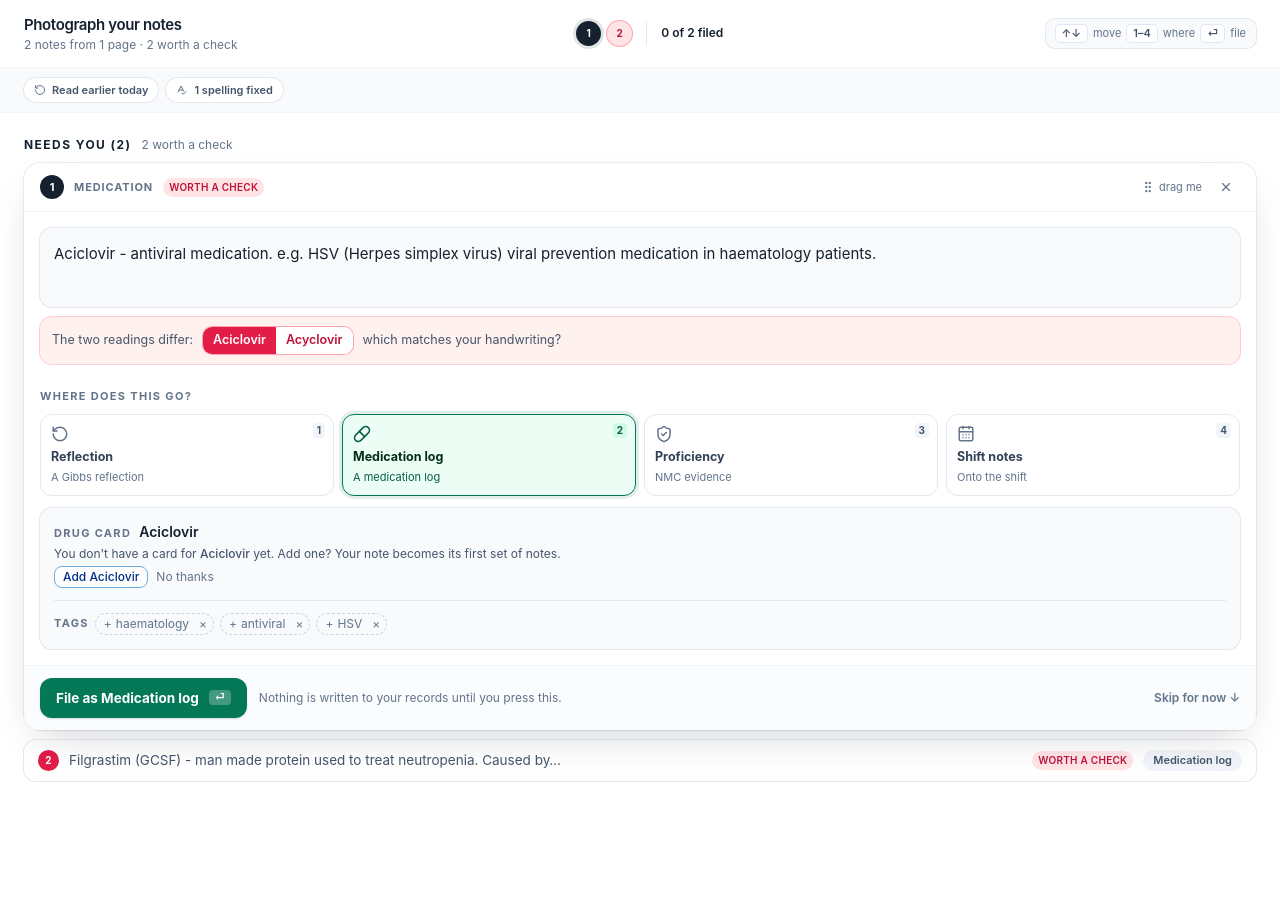
Test: ReviewPanel — the meta strip › opens one panel at a time
Click the button "Read earlier today" at x=91, y=90, box [24,78,158,102]
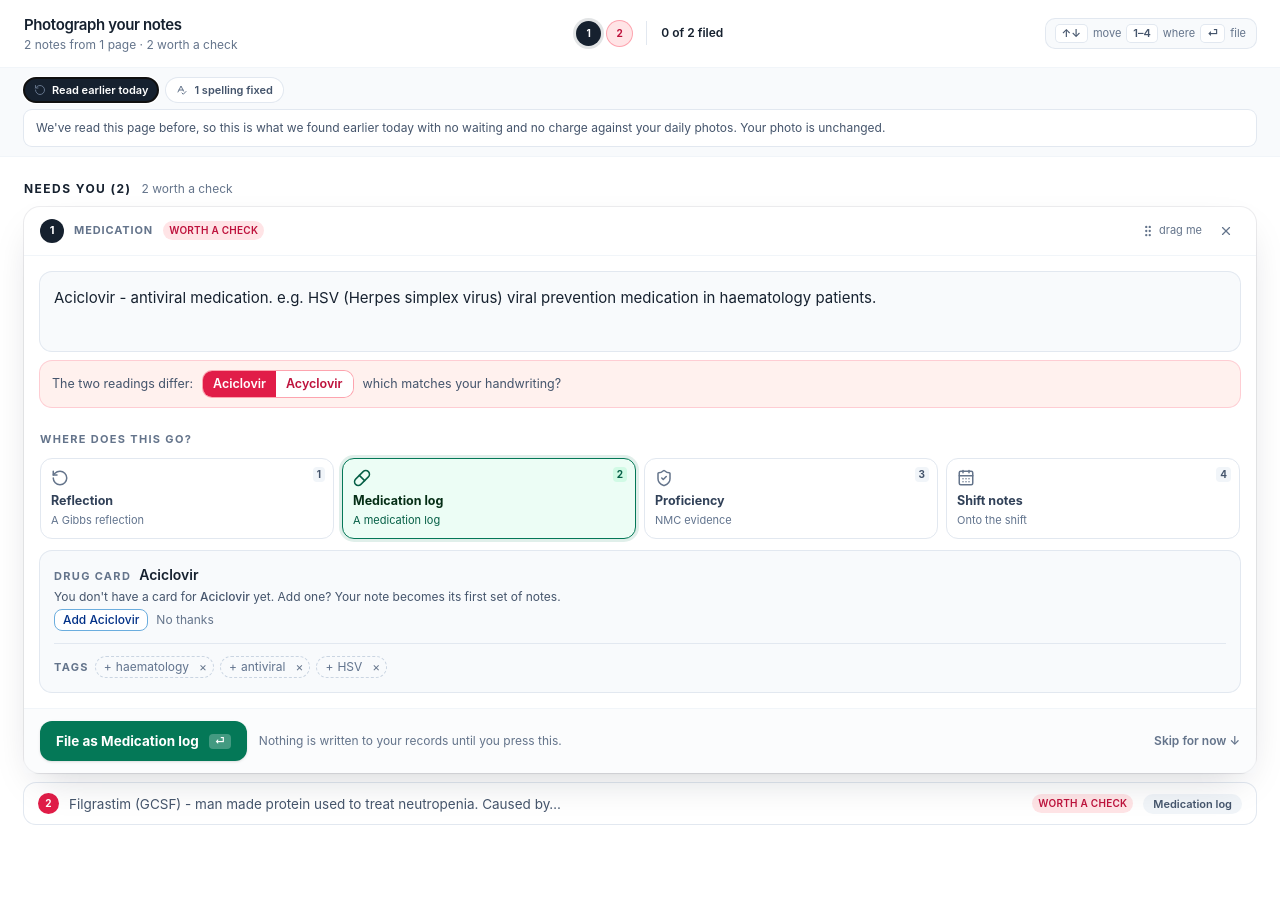
Click the button "1 spelling fixed" at x=225, y=90, box [166,78,283,102]
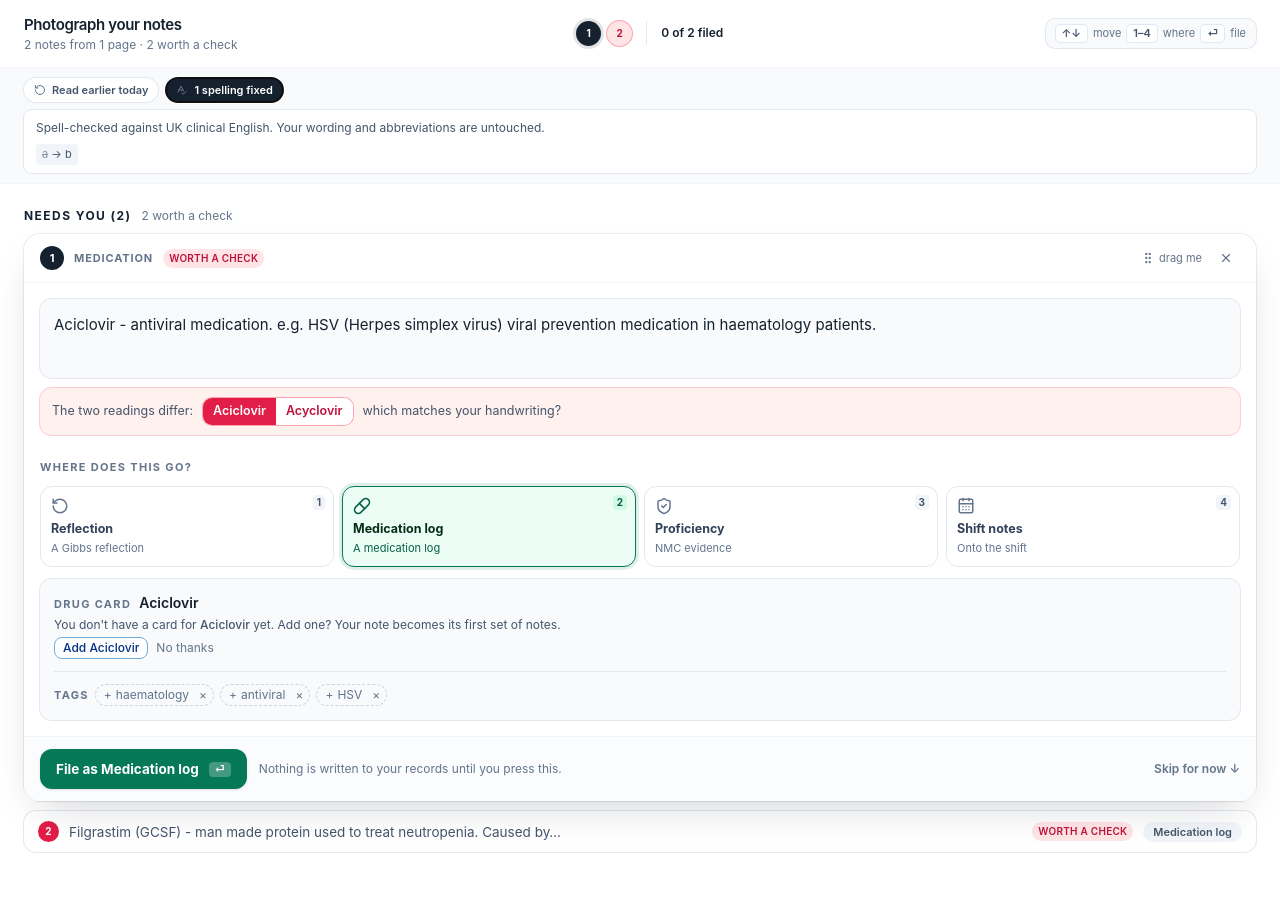
Expected: the button "Read earlier today" is collapsed, [24,78,158,102]
Expected: the text "read this page before" is gone
